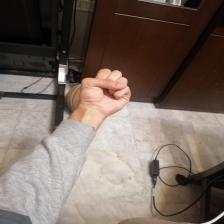five: (76, 65, 142, 119)
